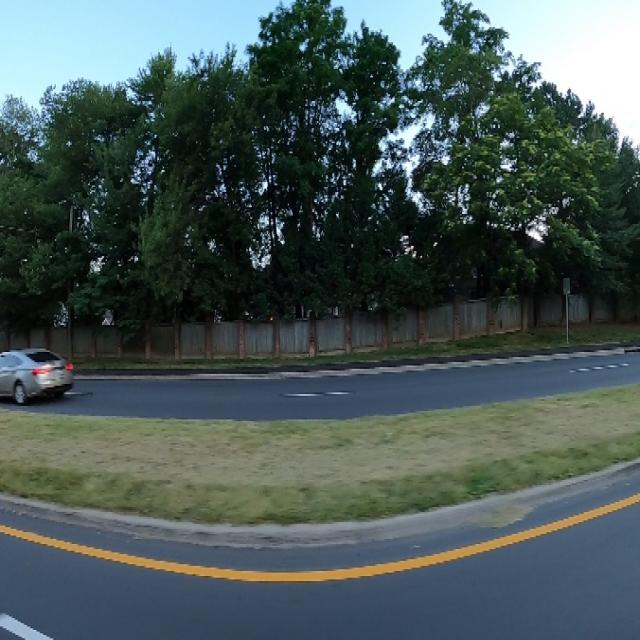car: (0, 326, 80, 419)
